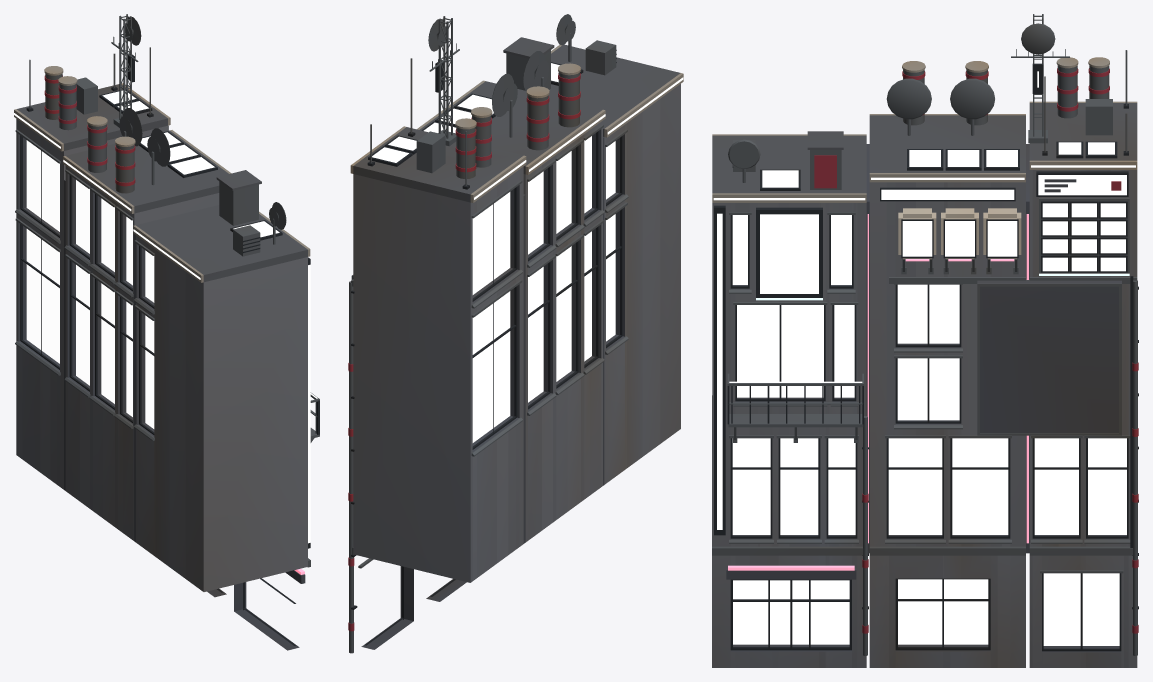
The model's file is eaststack279.glb.
3 views of the same model, side by side, from view 1: azimuth 30°, elevation 25°; view 2: azimuth 150°, elevation 25°; view 3: azimuth 270°, elevation 25° (orthographic). The views are drawn at different scales.
Visible parts, largest first — view 1: fe-wall, fe-roof, fe-steel, fe-wall2, fe-room1, fe-frame, fe-room2, fe-trim, fe-lamp, fe-led, fe-room0, fe-paint; view 2: fe-wall, fe-steel, fe-wall2, fe-roof, fe-room1, fe-frame, fe-room2, fe-trim, fe-room0, fe-lamp, fe-paint, fe-led; view 3: fe-wall, fe-room1, fe-steel, fe-wall2, fe-frame, fe-roof, fe-shop, fe-room2, fe-room0, fe-trim, fe-poster, fe-screen (+6 smaller).
Boxes of the visible parts, box(x1,y1,x2,y2) form: fe-wall: box(16, 119, 307, 591); fe-roof: box(17, 84, 307, 282); fe-steel: box(15, 14, 319, 567); fe-wall2: box(18, 134, 305, 650); fe-room1: box(26, 140, 154, 428); fe-frame: box(20, 54, 319, 645); fe-room2: box(26, 229, 59, 363); fe-trim: box(14, 66, 310, 282); fe-lamp: box(102, 90, 279, 237); fe-led: box(14, 113, 317, 543); fe-room0: box(126, 217, 132, 416); fe-paint: box(44, 75, 135, 186); fe-wall: box(353, 84, 680, 582); fe-steel: box(349, 14, 628, 653); fe-wall2: box(352, 129, 624, 649); fe-roof: box(353, 37, 680, 202); fe-room1: box(472, 141, 615, 402); fe-frame: box(351, 50, 622, 645); fe-room2: box(472, 291, 510, 442); fe-trim: box(350, 45, 683, 202); fe-room0: box(584, 136, 591, 361); fe-lamp: box(372, 63, 559, 162); fe-paint: box(348, 73, 580, 631); fe-led: box(474, 77, 683, 199); fe-wall: box(712, 170, 1137, 667); fe-room1: box(732, 215, 1126, 645); fe-steel: box(712, 14, 1137, 655); fe-wall2: box(726, 144, 1128, 652); fe-frame: box(714, 63, 1138, 651); fe-roof: box(712, 103, 1137, 193); fe-shop: box(733, 579, 988, 644); fe-room2: box(732, 438, 942, 534); fe-room0: box(828, 215, 974, 534); fe-trim: box(712, 57, 1137, 202); fe-poster: box(760, 214, 818, 293); fe-screen: box(1042, 203, 1125, 271).
Size of the model in its own units: 3.65 by 15.38 by 9.43.
